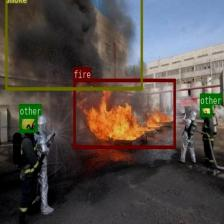fire: (73, 78, 175, 148)
smoke: (4, 0, 142, 90)
